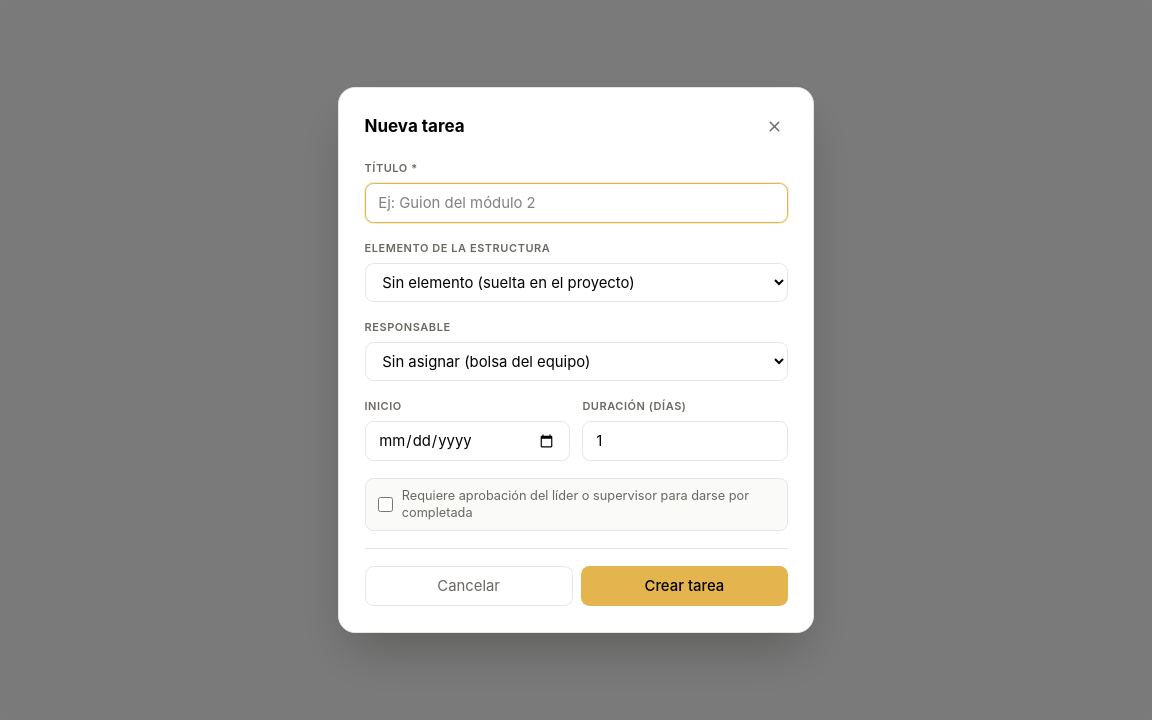
Scenario: NewTeamTaskModal › valida el título mínimo
In the field with placeholder "Ej: Guion del módulo 2": point(576, 203) [364,183,788,223], type "x"
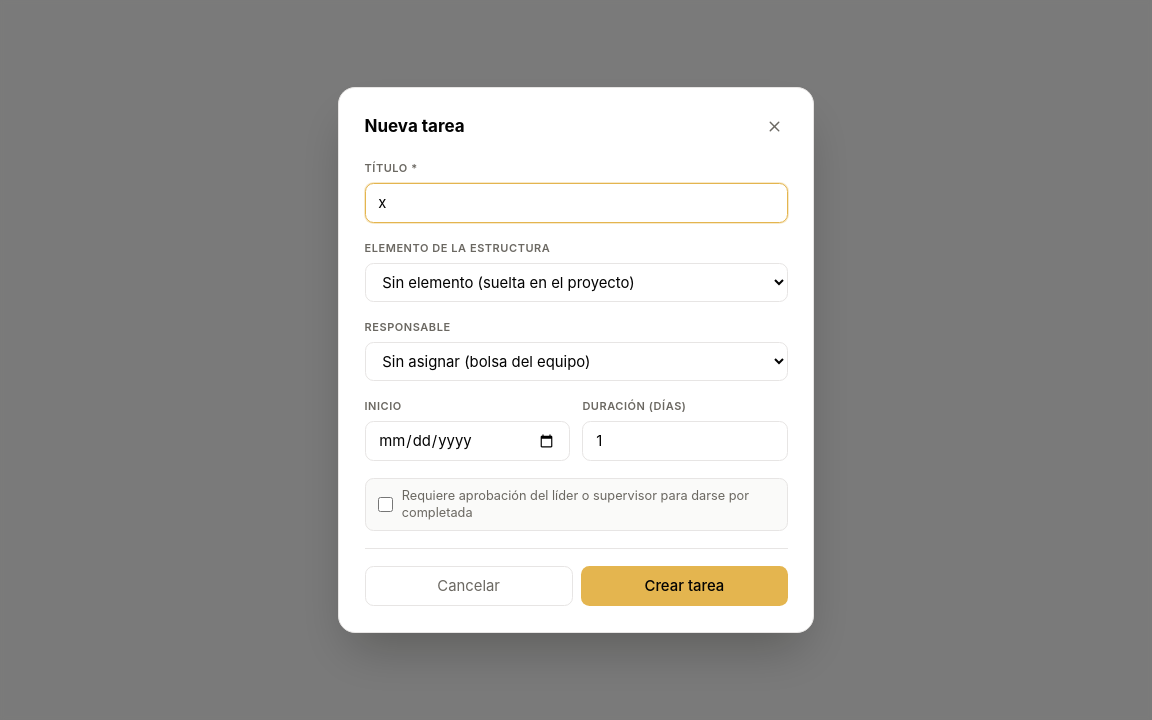
Click the button "Crear tarea": point(684, 586) [581,566,788,606]
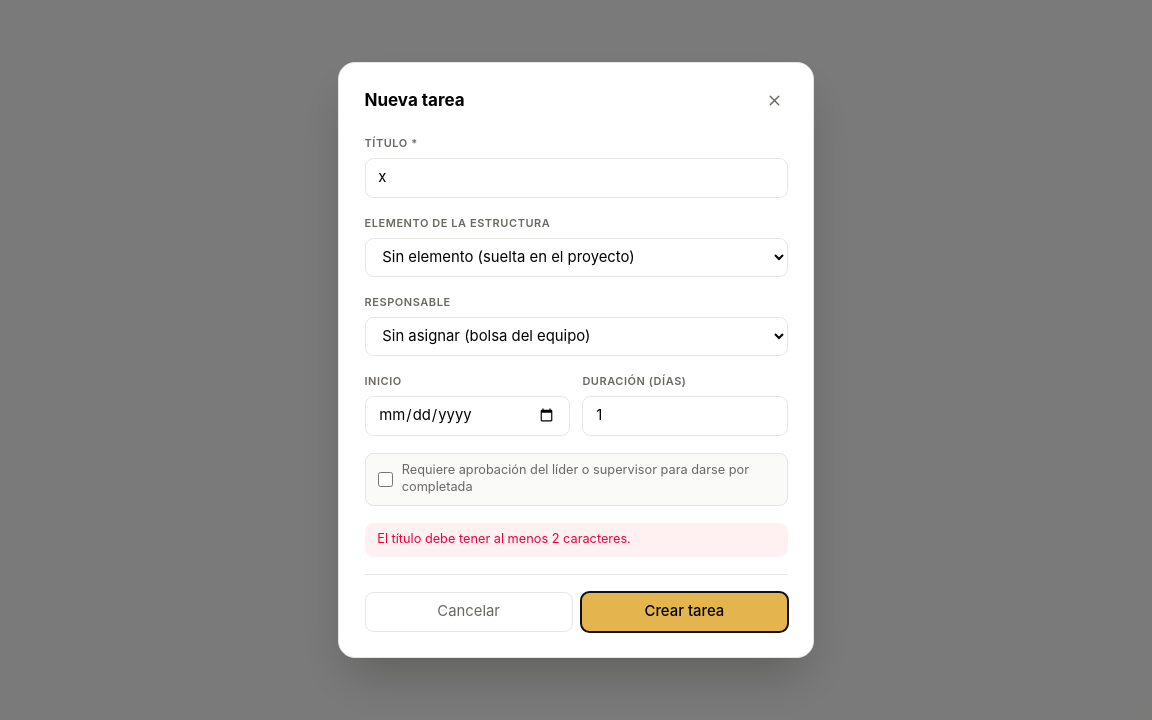
Result: the text "El título debe tener al menos 2 caracteres." is shown at [364,523,788,557]
